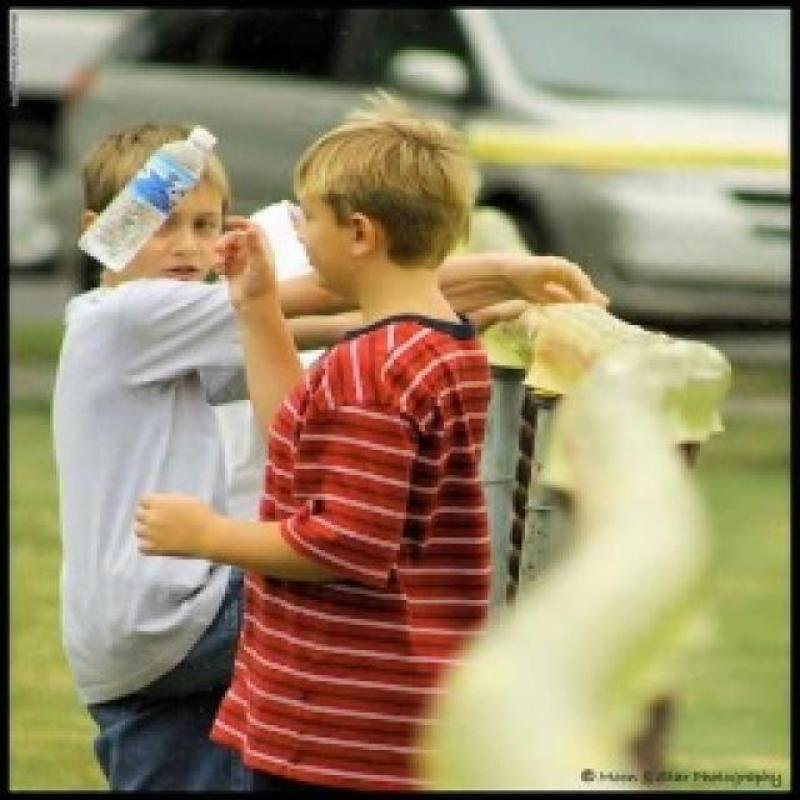botella: (77, 125, 221, 273)
